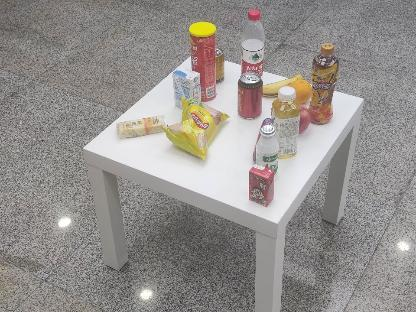Can: (239, 71, 263, 118), (214, 45, 224, 83)
Others: (186, 21, 222, 103), (170, 64, 204, 108), (245, 164, 275, 208)
Plastic Bottle: (232, 7, 270, 86)
